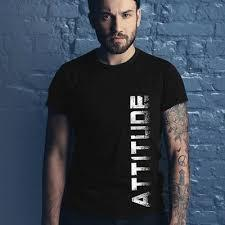Tshirt: (43, 46, 188, 217)
